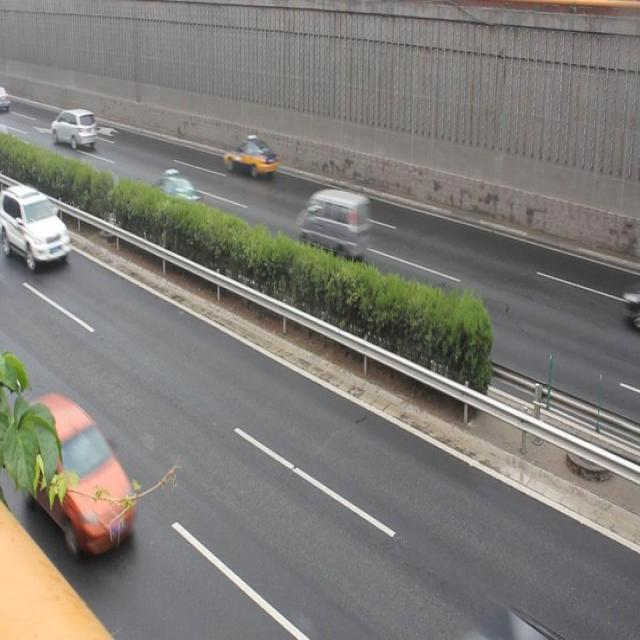car: (20, 397, 134, 550), (0, 188, 70, 264), (133, 175, 207, 235), (222, 134, 276, 180), (52, 106, 98, 154)
truck: (296, 188, 371, 258)
